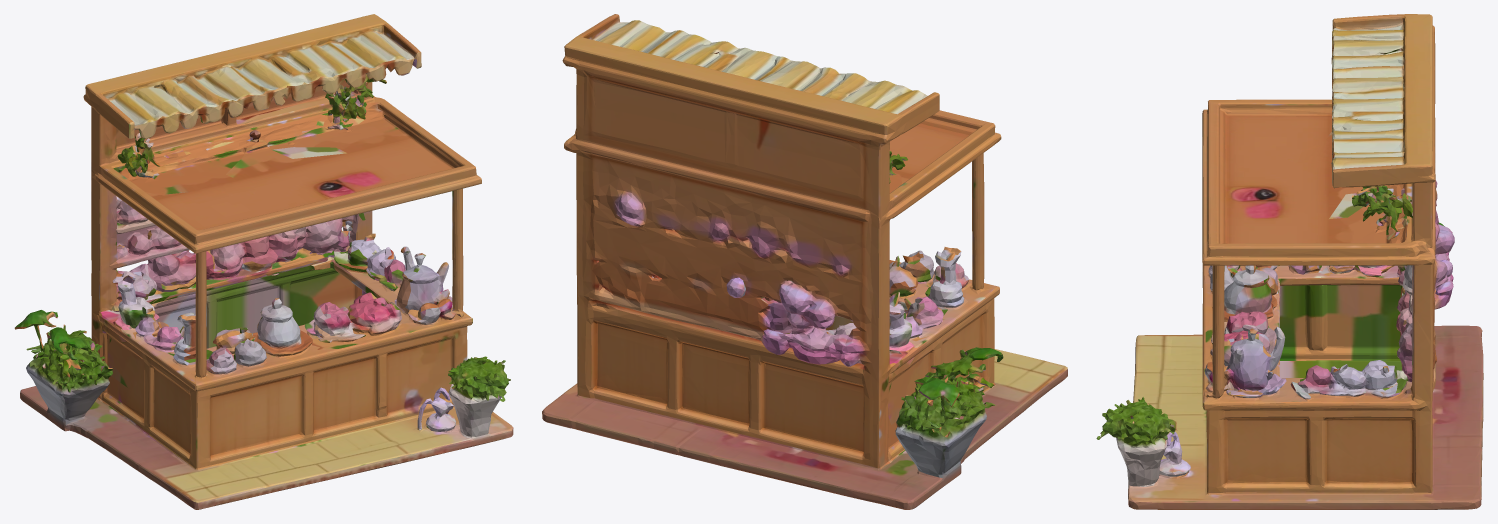
The model's file is cafe_patisserie_stand.glb.
The picture shows the model from 3 angles, left to right: view 1: azimuth 30°, elevation 25°; view 2: azimuth 150°, elevation 25°; view 3: azimuth 270°, elevation 25°; orthographic projection. The views are drawn at different scales.
Visible parts, largest first — view 1: tmpo5h9v6nk.ply; view 2: tmpo5h9v6nk.ply; view 3: tmpo5h9v6nk.ply.
Part boxes in pixels (x1,y1,x2,y2): tmpo5h9v6nk.ply: (14,14,513,509); tmpo5h9v6nk.ply: (542,14,1067,509); tmpo5h9v6nk.ply: (1096,14,1483,509).
Bounding box in the file's own units: 1.99 × 1.7 × 1.73.
Materials: 1 (1 with a texture image).
